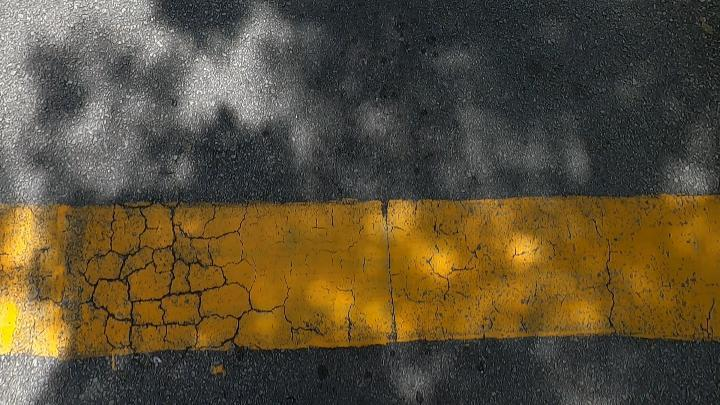Lane: (0, 196, 719, 360), (0, 195, 720, 357)
